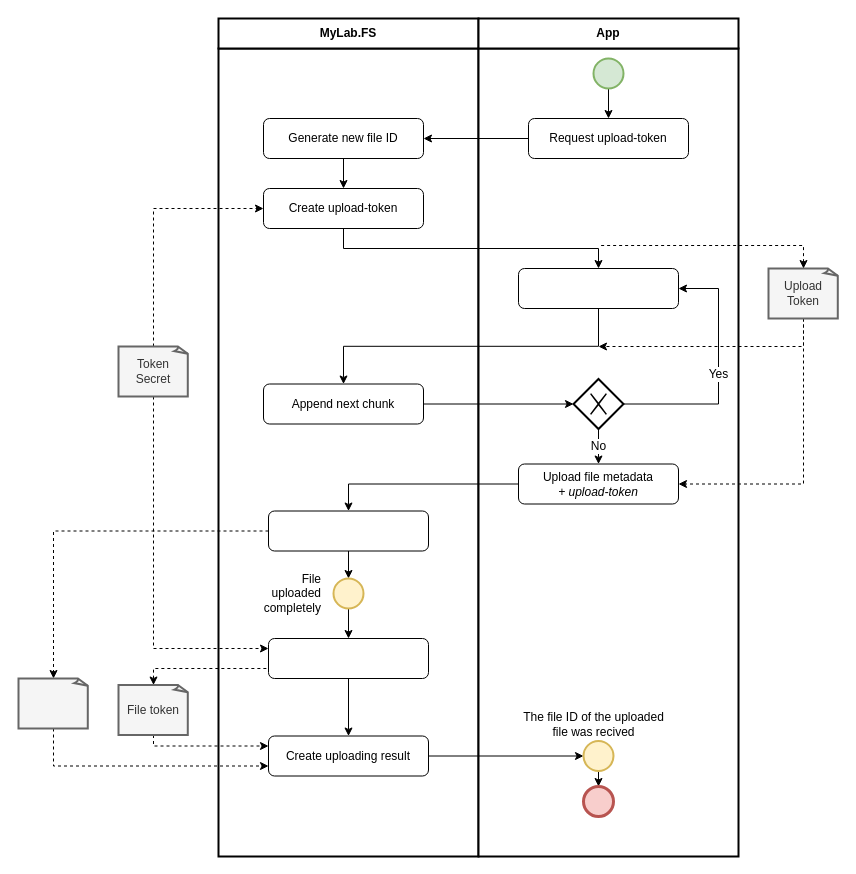
The diagram is 856 pixels wide and 874 high, and some of its shapes have lost their labels. The shapes that lost their labels are listed below. From the top down, each one's centre as x and y in pixels, then its label:
the point at 608,73: Start uploading
the point at 598,288: Upload next file chunk + upload-token
the point at 598,404: Has next chunk?
the point at 348,530: Save file metadata
the point at 348,658: Create document-token
the point at 53,703: File metadata
the point at 598,801: The file uploaded successfully
